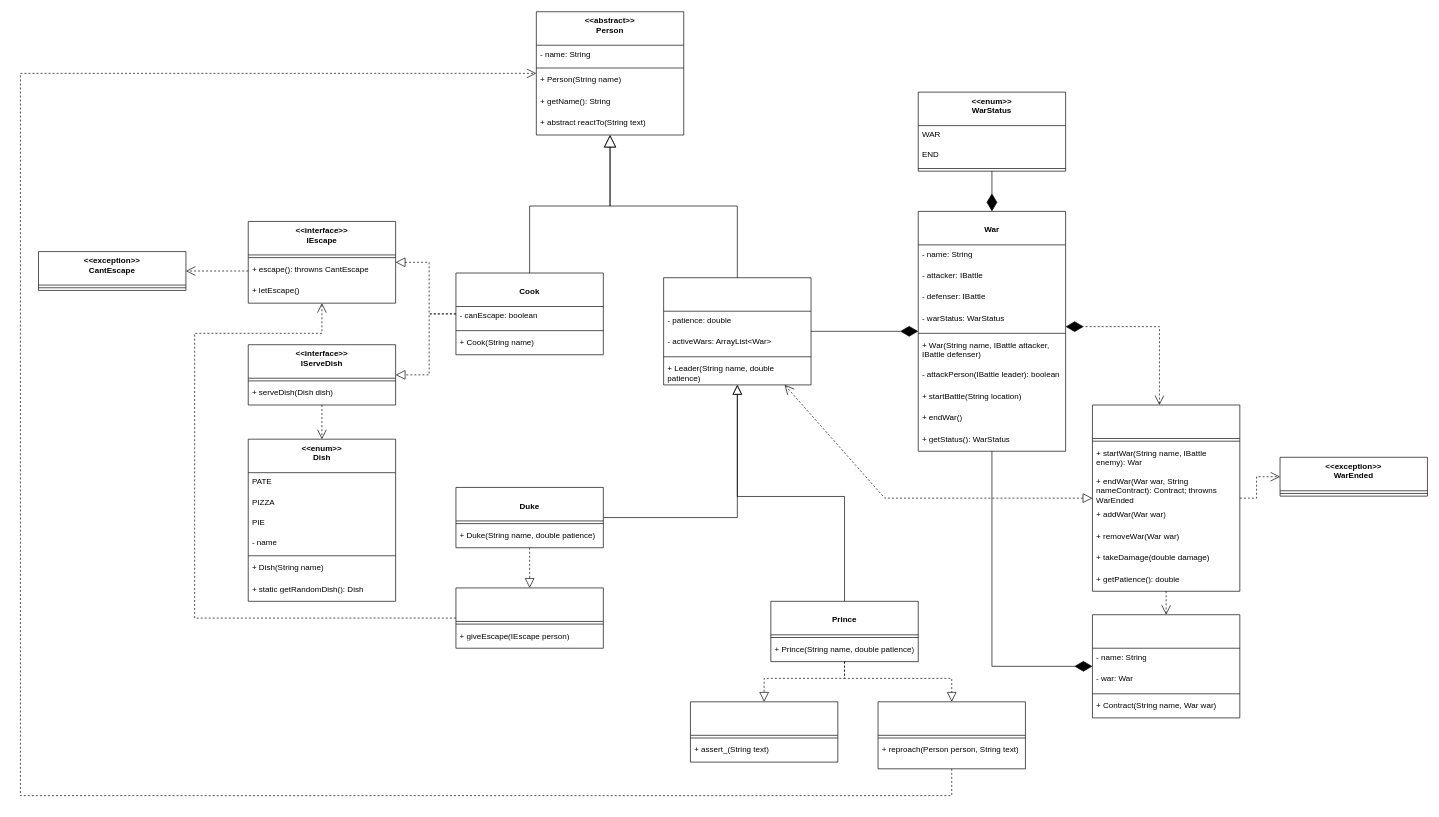
Image size: 1439x817. Some labels were removed from this diagram. Each missing label, with the box of its shape:
<<abstract>> Leader: (663, 277, 811, 385)
<<interface>> IAssert: (690, 701, 838, 762)
<<interface>> IBattle: (1092, 404, 1240, 591)
<<interface>> IGiveEscape: (455, 587, 603, 648)
<<interface>> IReproach: (877, 701, 1025, 769)
<<record>> Contract: (1092, 614, 1240, 718)
